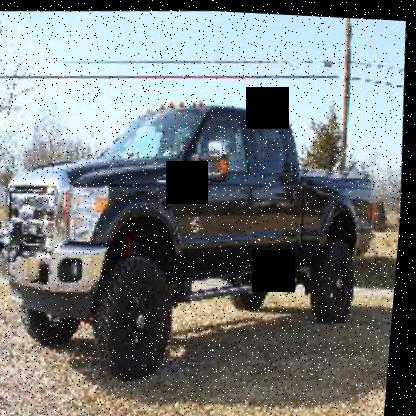not_emergency: (0, 81, 403, 374)
